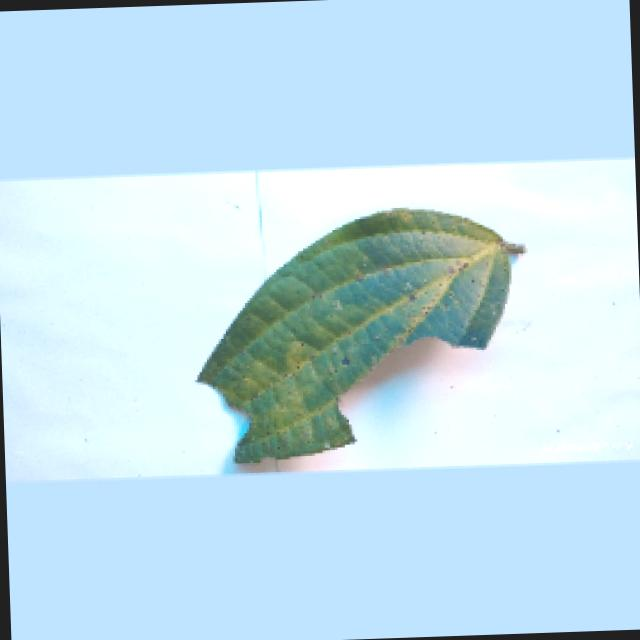slow-decline: (186, 200, 527, 459)
